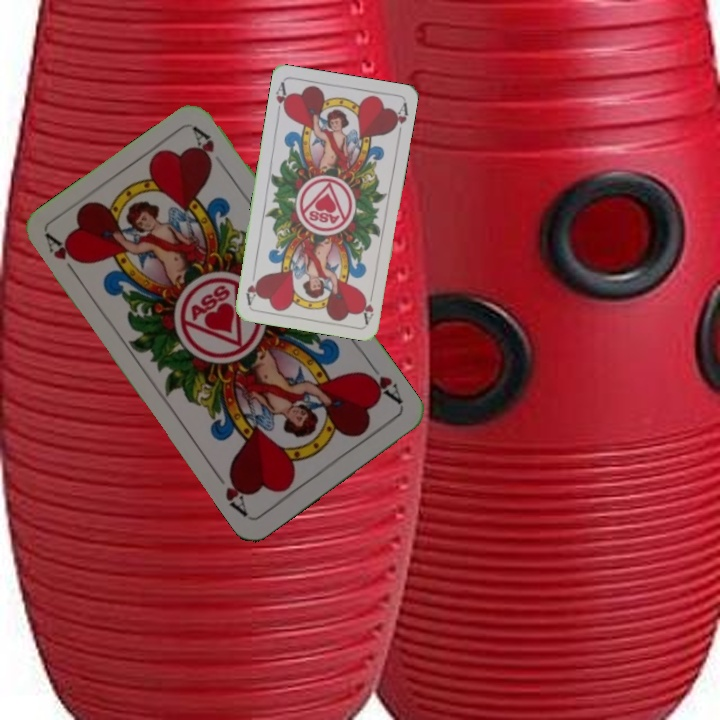HA: (357, 358, 406, 408), (41, 230, 85, 282), (272, 79, 292, 119), (358, 285, 377, 325)
